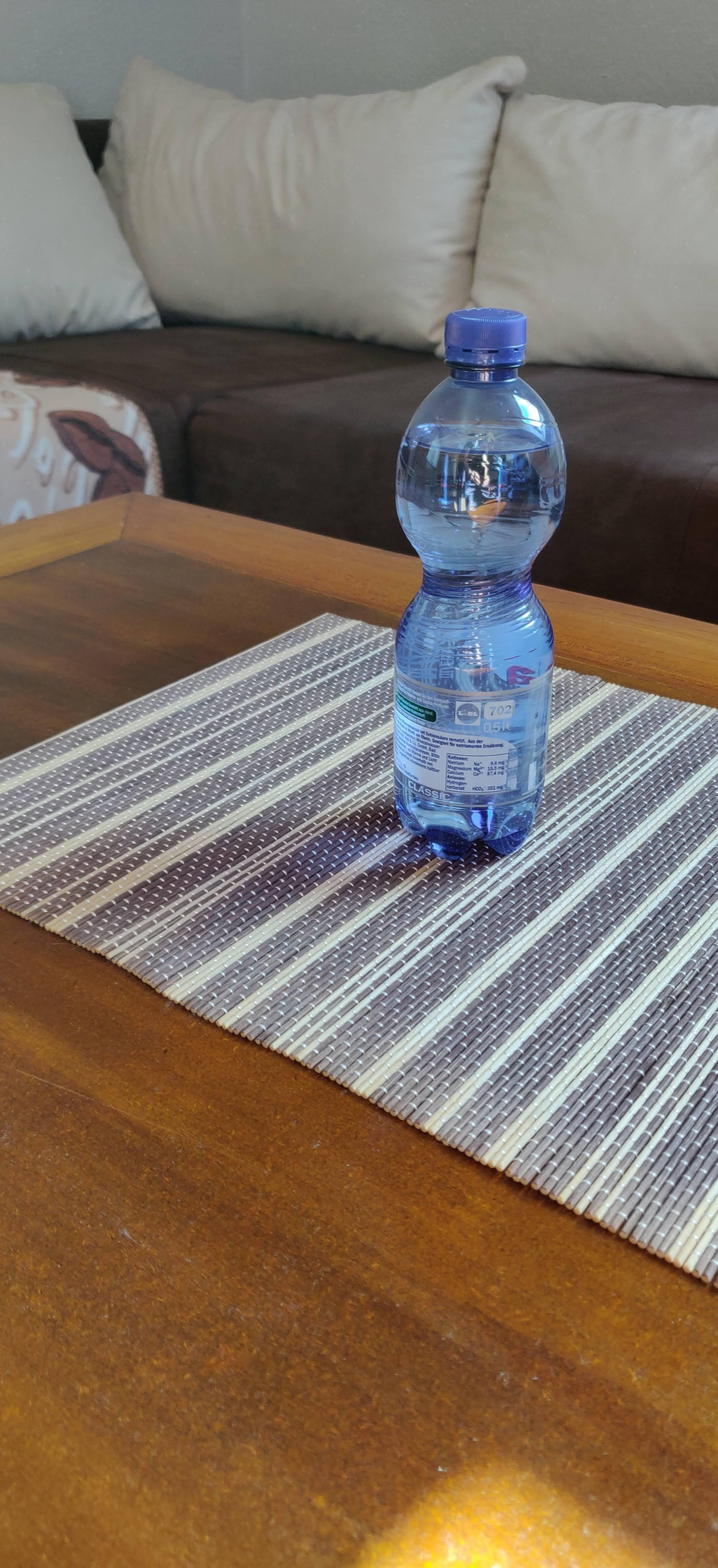bottle-plastic: (388, 303, 569, 851)
